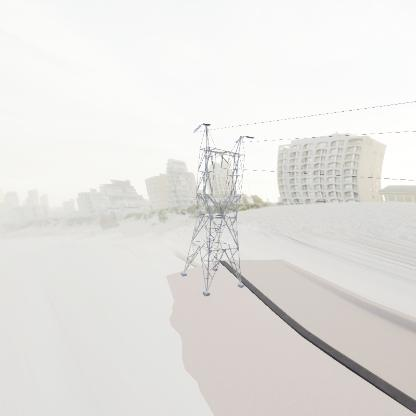tower: (175, 117, 260, 297)
